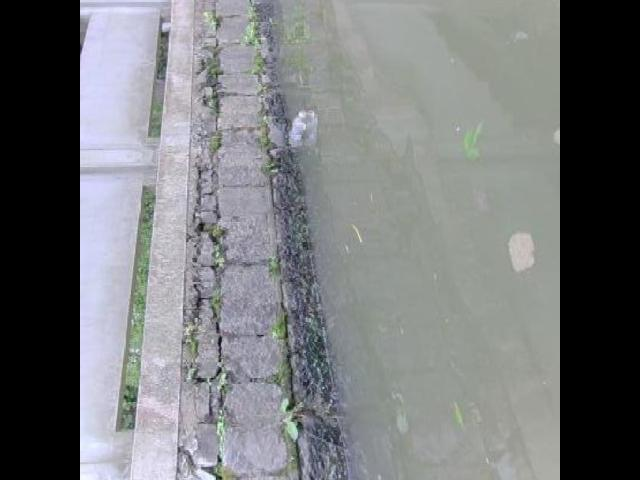Bottle: (284, 94, 313, 156)
